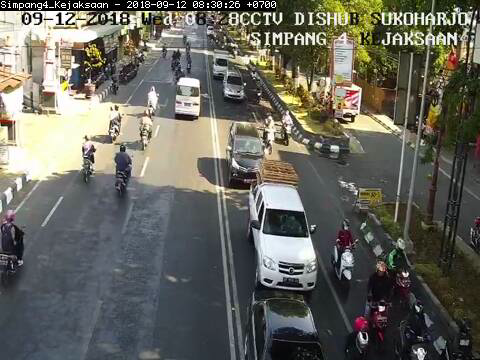motor: (363, 259, 390, 351), (330, 218, 360, 298), (386, 236, 416, 307), (260, 113, 277, 156), (280, 108, 295, 147)
